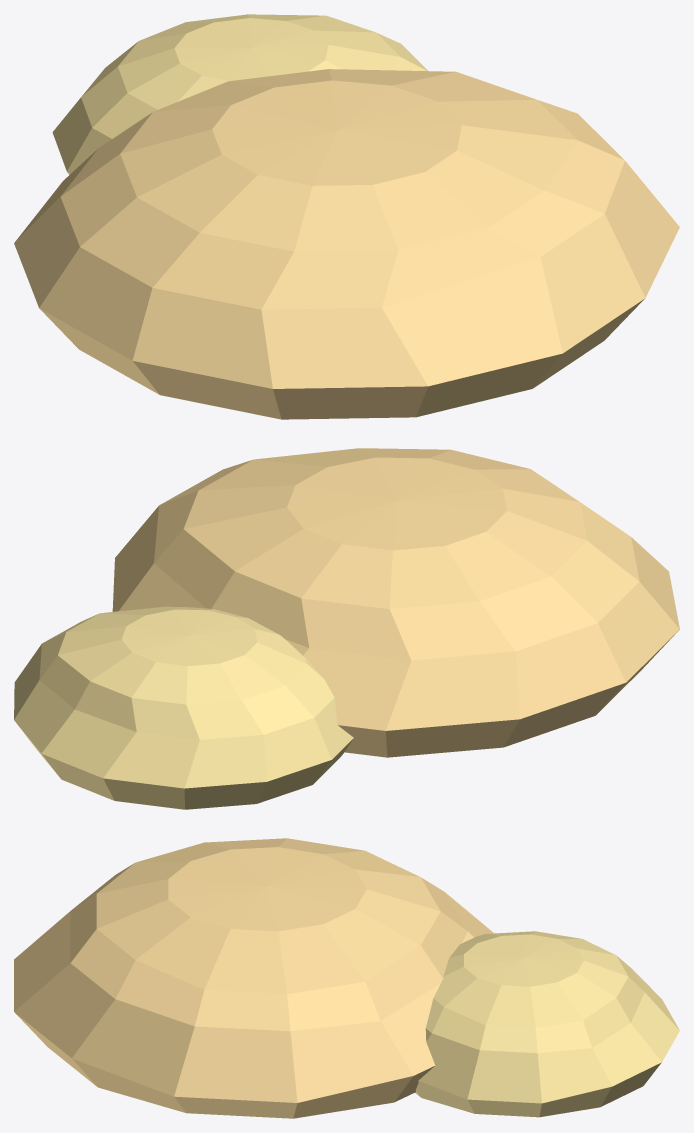
The model's file is island3.fbx.
3 renders of one model, top to bottom at view 1: azimuth 30°, elevation 25°; view 2: azimuth 150°, elevation 25°; view 3: azimuth 270°, elevation 25°, orthographic. The views are drawn at different scales.
Parts seen in each view (by area): view 1: Sphere, Sphere.001; view 2: Sphere, Sphere.001; view 3: Sphere, Sphere.001.
Part boxes in pixels (<box>): Sphere: <box>14,69,679,419</box>; Sphere.001: <box>52,14,428,174</box>; Sphere: <box>112,448,679,757</box>; Sphere.001: <box>14,606,353,809</box>; Sphere: <box>14,838,493,1118</box>; Sphere.001: <box>415,931,679,1117</box>.
Size of the model in its own units: 3634 by 1326 by 4526.
